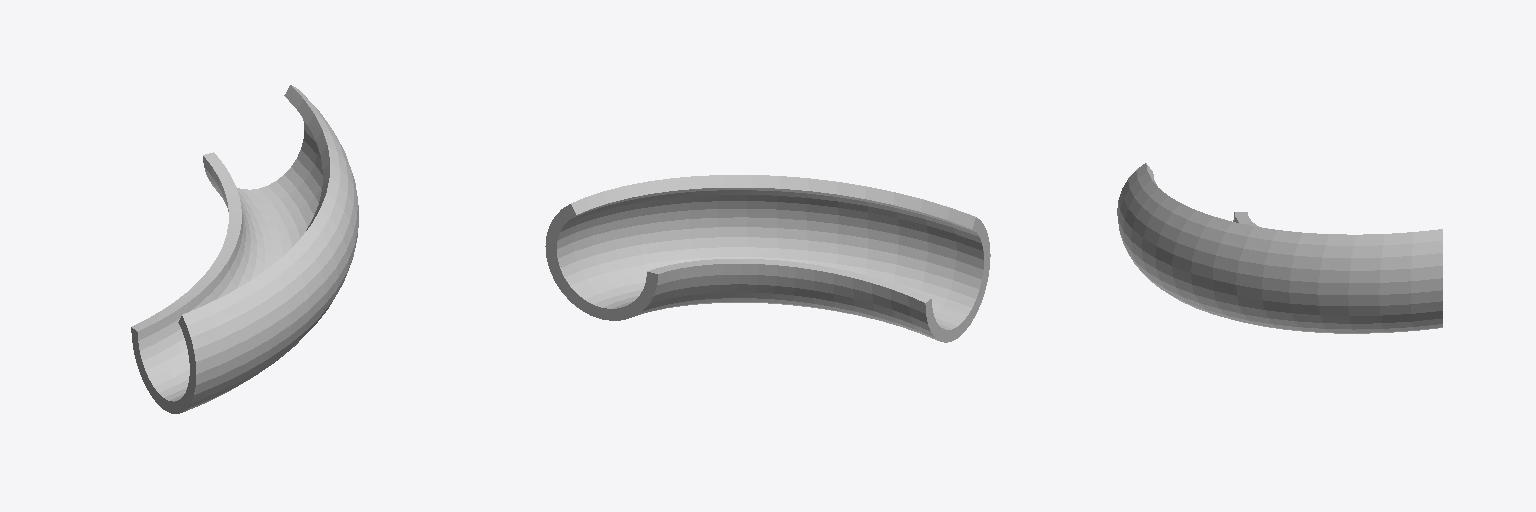
The model's file is turn_right3.obj.
3 renders of one model, left to right at view 1: azimuth 30°, elevation 25°; view 2: azimuth 150°, elevation 25°; view 3: azimuth 270°, elevation 25°, orthographic.
Visible parts, largest first — view 1: TurnRight3_Circle.009; view 2: TurnRight3_Circle.009; view 3: TurnRight3_Circle.009.
Boxes of the visible parts, x1,y1,x2,y2 form: TurnRight3_Circle.009: [131, 85, 358, 413]; TurnRight3_Circle.009: [545, 175, 990, 342]; TurnRight3_Circle.009: [1117, 163, 1442, 333].
Size of the model in its own units: 5 by 2.83 by 5.